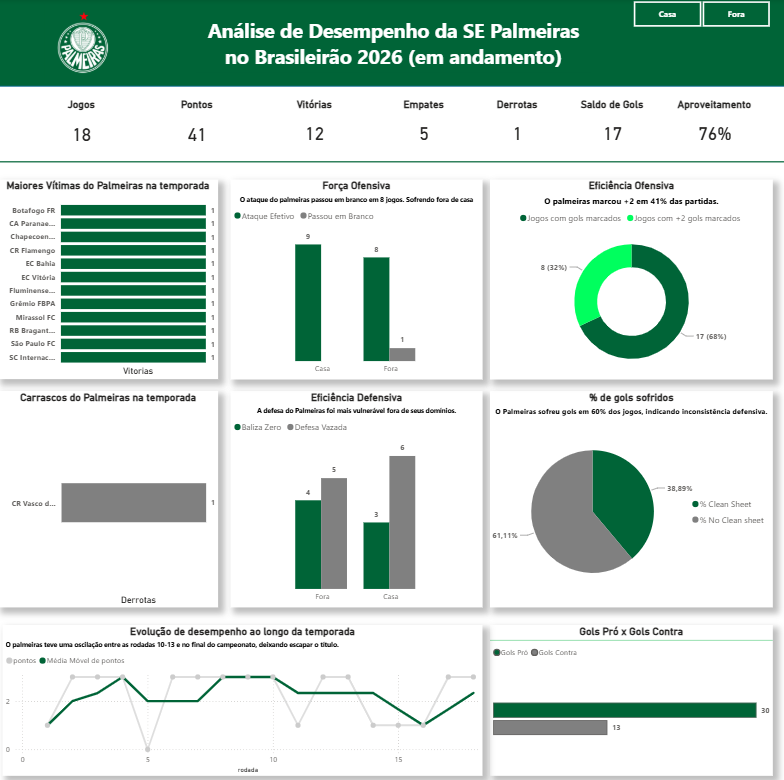

What the dashboard file says about the page in this screenshot:
{"tool":"powerbi","page":{"name":"Temporada 2026","canvas":[1280,1280],"ordinal":1},"visuals":[{"type":"card","title":"Pontos","fields":{"Values":["Sum(palmeiras_casa_fora_historico.pontos_total)"]},"box":[233.1,164.2,178.3,93.8],"z":0},{"type":"card","title":"Vitórias","fields":{"Values":["Sum(palmeiras_casa_fora_historico.vitorias)"]},"box":[422.3,164.2,184.6,92.3],"z":1000},{"type":"card","title":"Empates","fields":{"Values":["Sum(palmeiras_casa_fora_historico.empates)"]},"box":[617.8,164.2,150.2,92.3],"z":2000},{"type":"card","title":"Derrotas","fields":{"Values":["Sum(palmeiras_casa_fora_historico.derrotas)"]},"box":[768,164.2,151.7,92.3],"z":3000},{"type":"card","title":"Saldo de Gols","fields":{"Values":["Sum(palmeiras_jogos_historico.saldo_de_gols)"]},"box":[919.7,164.2,158,92.3],"z":4000},{"type":"card","title":"Aproveitamento ","fields":{"Values":["Medidas.Aproveitamento"]},"box":[1077.7,164.2,173.6,92.3],"z":5000},{"type":"card","title":"Jogos","fields":{"Values":["Medidas.numero_jogos"]},"box":[46.9,164.2,178.3,93.8],"z":6000},{"type":"shape","box":[0,0,1279.5,143.8],"z":7000},{"type":"slicer","fields":{"Values":["palmeiras_jogos_historico.local_jogo"]},"box":[1010,0,269.5,51.5],"z":8000},{"type":"clusteredBarChart","title":"Gols Pró x Gols Contra","fields":{"Y":["Sum(palmeiras_jogos_historico.gols_pro)","Sum(palmeiras_jogos_historico.gols_contra)"]},"box":[800.8,1019.8,459.9,245.6],"z":9000},{"type":"lineChart","title":"Evolução de desempenho ao longo da temporada","fields":{"Y":["Sum(palmeiras_jogos_historico.pontos)","Medidas.Media Movel 3"],"Category":["palmeiras_jogos_historico.rodada"]},"box":[6.3,1019.8,780.5,245.6],"z":10000},{"type":"clusteredBarChart","title":"Maiores Vítimas do Palmeiras na temporada","fields":{"Y":["Medidas.Vitorias"],"Category":["palmeiras_jogos_historico.Adversario"]},"box":[0,296.3,357.7,324.4],"z":11000},{"type":"clusteredBarChart","title":"Carrascos do Palmeiras na temporada","fields":{"Y":["Medidas.Derrotas"],"Category":["palmeiras_jogos_historico.Adversario"]},"box":[0,639.7,358.2,351.9],"z":12000},{"type":"image","box":[46.9,0,186.2,143.8],"z":13000},{"type":"textbox","box":[322.5,24.2,642,96.9],"z":14000},{"type":"clusteredColumnChart","title":"Eficiência Defensiva ","fields":{"Y":["Medidas.jogos sem sofrer gol","Medidas.jogos_defesa_vazada"],"Category":["palmeiras_jogos_historico.local_jogo"]},"box":[377,639.7,409.8,351.9],"z":15000},{"type":"pieChart","title":"% de gols sofridos ","fields":{"Y":["Medidas.%clean sheet","Medidas.% no clean sheet"]},"box":[800.8,639.7,459.9,351.9],"z":16000},{"type":"clusteredColumnChart","title":"Força Ofensiva ","fields":{"Y":["Medidas.Jogos_gols_marcados","Medidas.Jogos Sem Marcar"],"Category":["palmeiras_jogos_historico.local_jogo"]},"box":[377,294.1,409.8,325.3],"z":17000},{"type":"donutChart","title":"Eficiência Ofensiva ","fields":{"Y":["Medidas.Jogos_marcando_gols","Medidas.Jogos +2 Gols"]},"box":[800.8,294.1,459.9,325.3],"z":18000},{"type":"shape","box":[0,258.1,1279.5,15.6],"z":19000}]}

Visuals, with their boxes in screenshot pixels (x1, y1, x2, y2), scaled from the page's 1280x1280 canvas onto the 784x780 screenshot:
"Pontos" card: rect(143, 100, 252, 157)
"Vitórias" card: rect(259, 100, 372, 156)
"Empates" card: rect(378, 100, 470, 156)
"Derrotas" card: rect(470, 100, 563, 156)
"Saldo de Gols" card: rect(563, 100, 660, 156)
"Aproveitamento " card: rect(660, 100, 766, 156)
"Jogos" card: rect(29, 100, 138, 157)
shape: rect(0, 0, 783, 88)
slicer - palmeiras_jogos_historico.local_jogo: rect(619, 0, 783, 31)
"Gols Pró x Gols Contra" clusteredBarChart: rect(490, 621, 772, 771)
"Evolução de desempenho ao longo da temporada" lineChart: rect(4, 621, 482, 771)
"Maiores Vítimas do Palmeiras na temporada" clusteredBarChart: rect(0, 181, 219, 378)
"Carrascos do Palmeiras na temporada" clusteredBarChart: rect(0, 390, 219, 604)
image: rect(29, 0, 143, 88)
textbox: rect(198, 15, 591, 74)
"Eficiência Defensiva " clusteredColumnChart: rect(231, 390, 482, 604)
"% de gols sofridos " pieChart: rect(490, 390, 772, 604)
"Força Ofensiva " clusteredColumnChart: rect(231, 179, 482, 377)
"Eficiência Ofensiva " donutChart: rect(490, 179, 772, 377)
shape: rect(0, 157, 783, 167)
